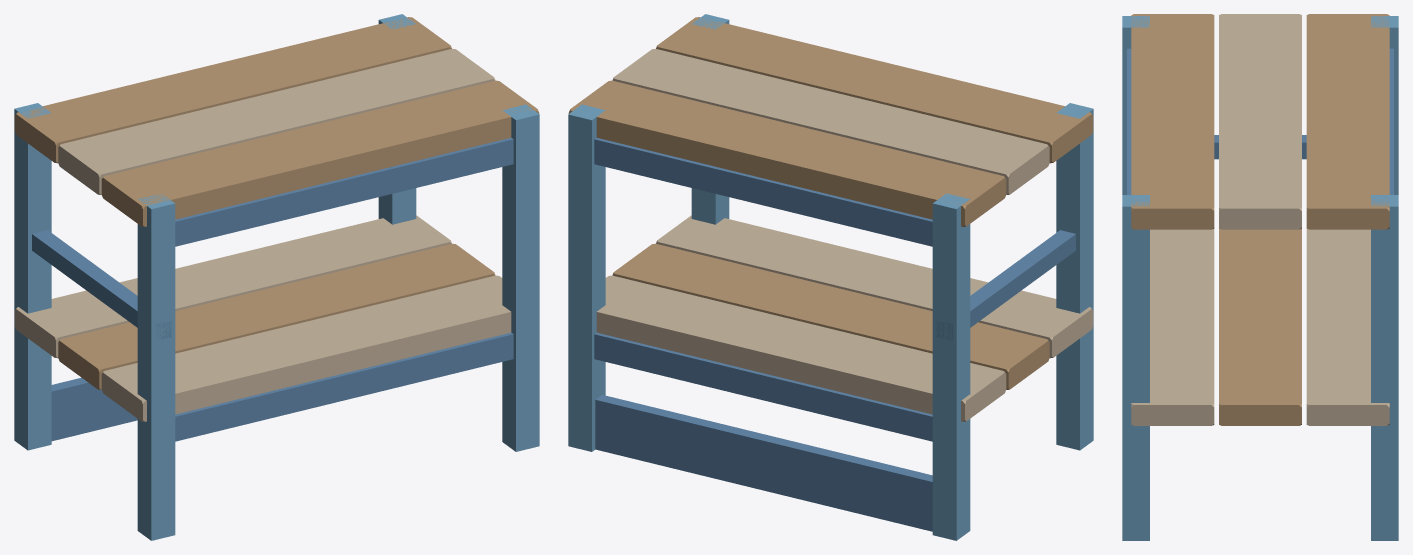
Rendered from storage_shelf.glb.
3 renders of one model, left to right at view 1: azimuth 30°, elevation 25°; view 2: azimuth 150°, elevation 25°; view 3: azimuth 270°, elevation 25°, orthographic.
Parts seen in each view (by area): view 1: storage_shelf; view 2: storage_shelf; view 3: storage_shelf.
Boxes of the visible parts, x1,y1,x2,y2 form: storage_shelf: (14,14,539,540); storage_shelf: (568,14,1093,540); storage_shelf: (1122,14,1398,540).
Bounding box in the file's own units: 1 × 0.8 × 0.6.
